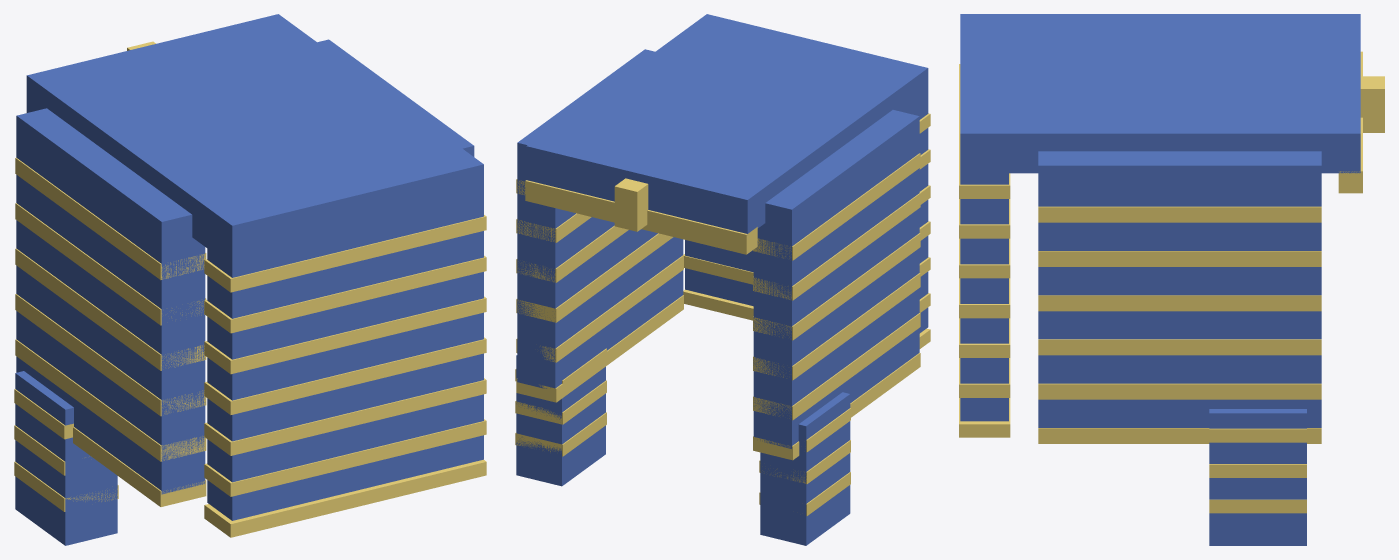
File: nemes_farao.glb
The picture shows the model from 3 angles, left to right: view 1: azimuth 30°, elevation 25°; view 2: azimuth 150°, elevation 25°; view 3: azimuth 270°, elevation 25°; orthographic projection. The views are drawn at different scales.
Parts seen in each view (by area): view 1: nemes_farao; view 2: nemes_farao; view 3: nemes_farao.
Boxes of the visible parts, x1,y1,x2,y2 form: nemes_farao: (14,14,486,545); nemes_farao: (515,14,930,545); nemes_farao: (959,14,1384,545).
Bounding box in the file's own units: 0.765 × 0.89 × 0.8725.
